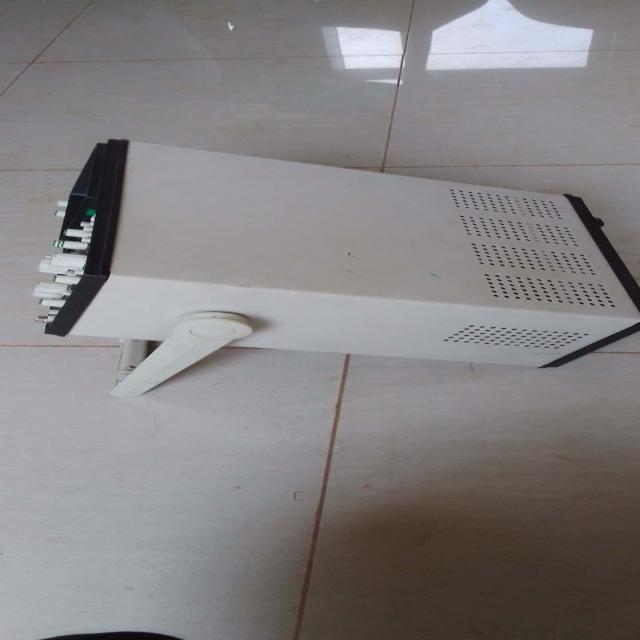Cathode Ray Oscilloscope: (19, 125, 637, 402)
